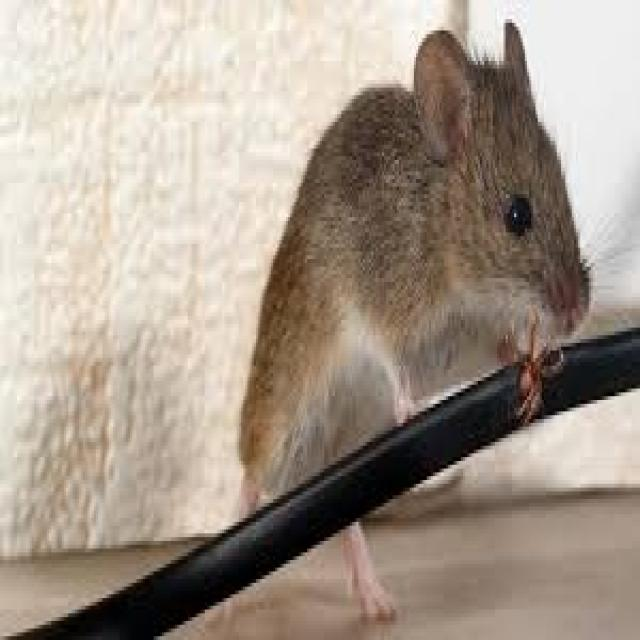rat: (242, 9, 594, 492)
